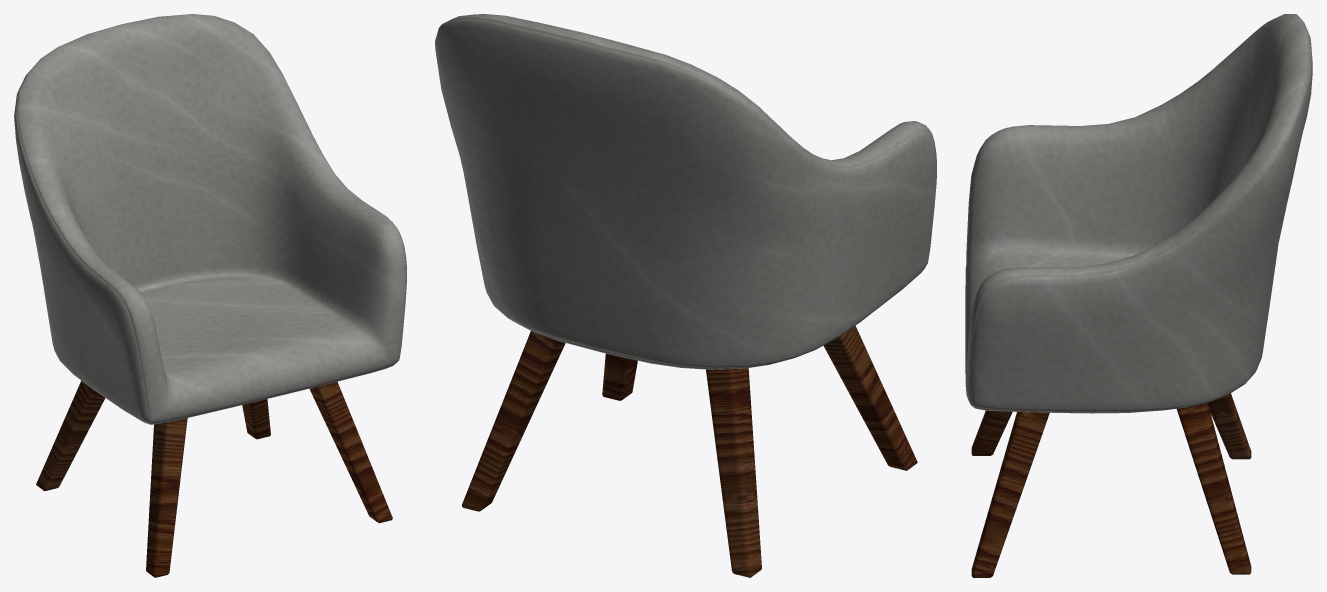
Rendered from Chair.glb.
3 renders of one model, left to right at view 1: azimuth 30°, elevation 25°; view 2: azimuth 150°, elevation 25°; view 3: azimuth 270°, elevation 25°, orthographic. The views are drawn at different scales.
Parts seen in each view (by area): view 1: seat_mesh_n3d, leg_004_mesh_n3d, leg_003_mesh_n3d, leg_002_mesh_n3d, leg_001_mesh_n3d; view 2: seat_mesh_n3d, leg_002_mesh_n3d, leg_001_mesh_n3d, leg_004_mesh_n3d, leg_003_mesh_n3d; view 3: seat_mesh_n3d, leg_001_mesh_n3d, leg_003_mesh_n3d, leg_002_mesh_n3d, leg_004_mesh_n3d.
Boxes of the visible parts, left/top/right/bottom form: seat_mesh_n3d: left=14, top=14, right=406, bottom=424; leg_004_mesh_n3d: left=146, top=418, right=187, bottom=577; leg_003_mesh_n3d: left=309, top=381, right=392, bottom=523; leg_002_mesh_n3d: left=36, top=381, right=105, bottom=491; leg_001_mesh_n3d: left=242, top=399, right=270, bottom=439; seat_mesh_n3d: left=435, top=14, right=936, bottom=369; leg_002_mesh_n3d: left=706, top=368, right=761, bottom=577; leg_001_mesh_n3d: left=461, top=331, right=565, bottom=511; leg_004_mesh_n3d: left=823, top=326, right=917, bottom=470; leg_003_mesh_n3d: left=602, top=353, right=637, bottom=400; seat_mesh_n3d: left=965, top=14, right=1312, bottom=413; leg_001_mesh_n3d: left=1176, top=402, right=1251, bottom=574; leg_003_mesh_n3d: left=971, top=412, right=1049, bottom=577; leg_002_mesh_n3d: left=1208, top=393, right=1251, bottom=459; leg_004_mesh_n3d: left=971, top=410, right=1012, bottom=455.
Size of the model in its own units: 0.8208 by 1.14 by 0.7759.
Materials: 2 (2 with a texture image).
